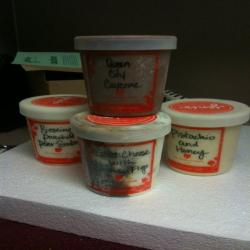icecream: (69, 27, 176, 120), (68, 109, 174, 196), (159, 94, 247, 175), (16, 93, 94, 167)
